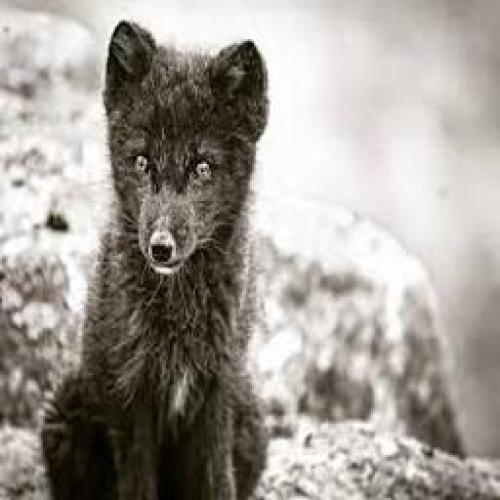arctic_fox-endangered: (43, 15, 269, 500)
